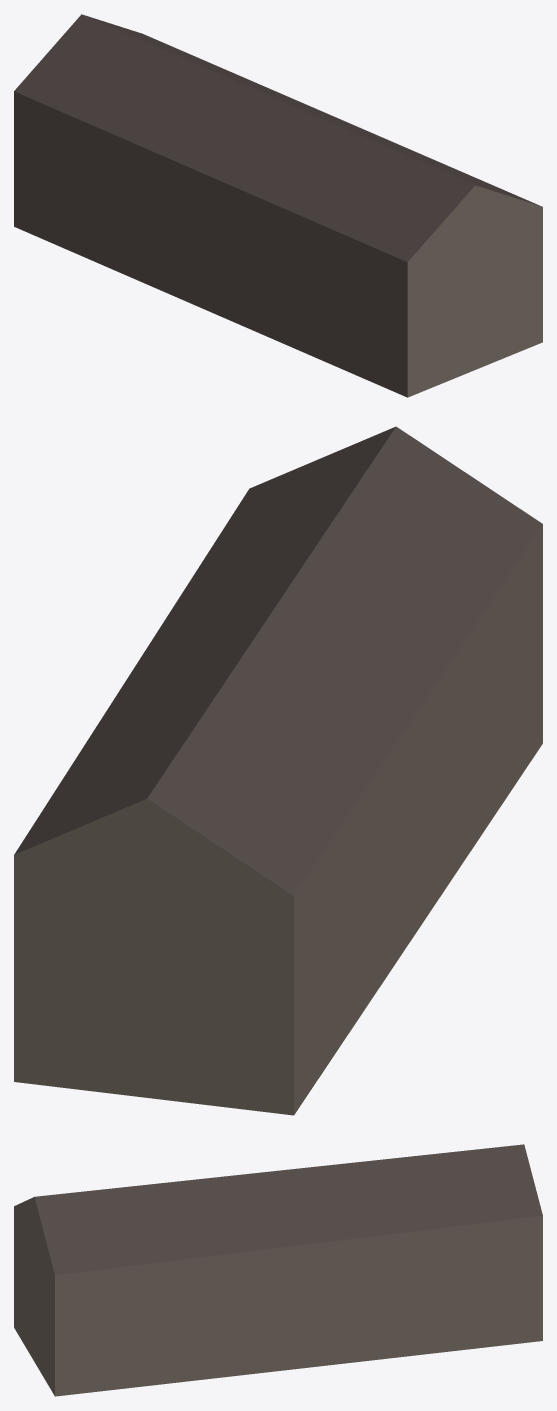
The picture shows the model from 3 angles, top to bottom: view 1: azimuth 30°, elevation 25°; view 2: azimuth 150°, elevation 25°; view 3: azimuth 270°, elevation 25°; orthographic projection. The views are drawn at different scales.
Visible parts, largest first — view 1: HP-w505646897; view 2: HP-w505646897; view 3: HP-w505646897.
Part boxes in pixels (box(x1,y1,x2,y2)): HP-w505646897: box(14, 14, 542, 397); HP-w505646897: box(14, 426, 542, 1115); HP-w505646897: box(14, 1144, 542, 1396).
Bounding box in the file's own units: 12.9 × 8.18 × 23.74.
